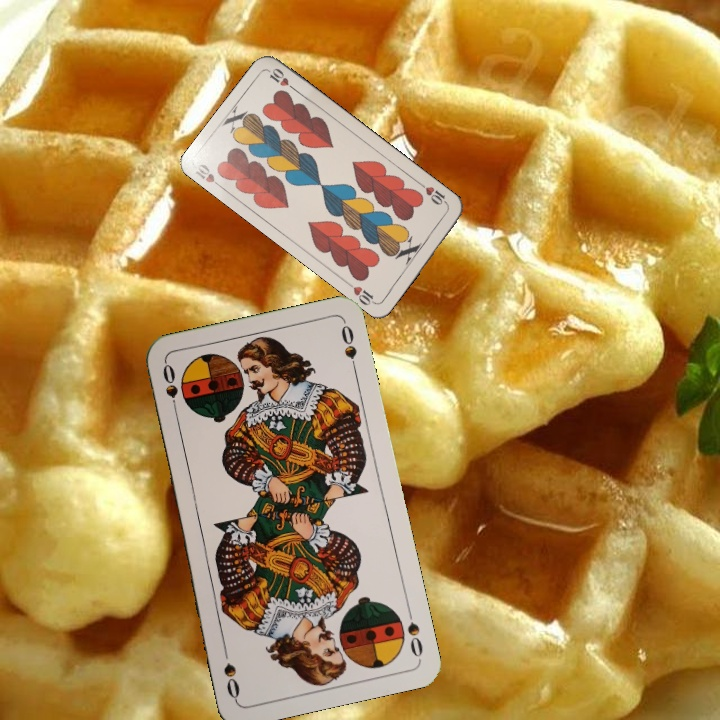H10: (191, 158, 227, 192), (416, 179, 451, 209)
SO: (403, 603, 426, 660), (159, 359, 181, 418)
